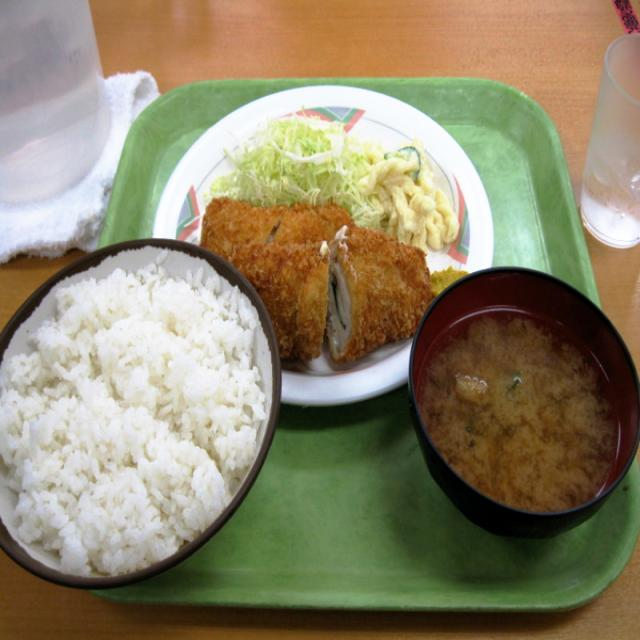rice: (0, 250, 267, 580)
